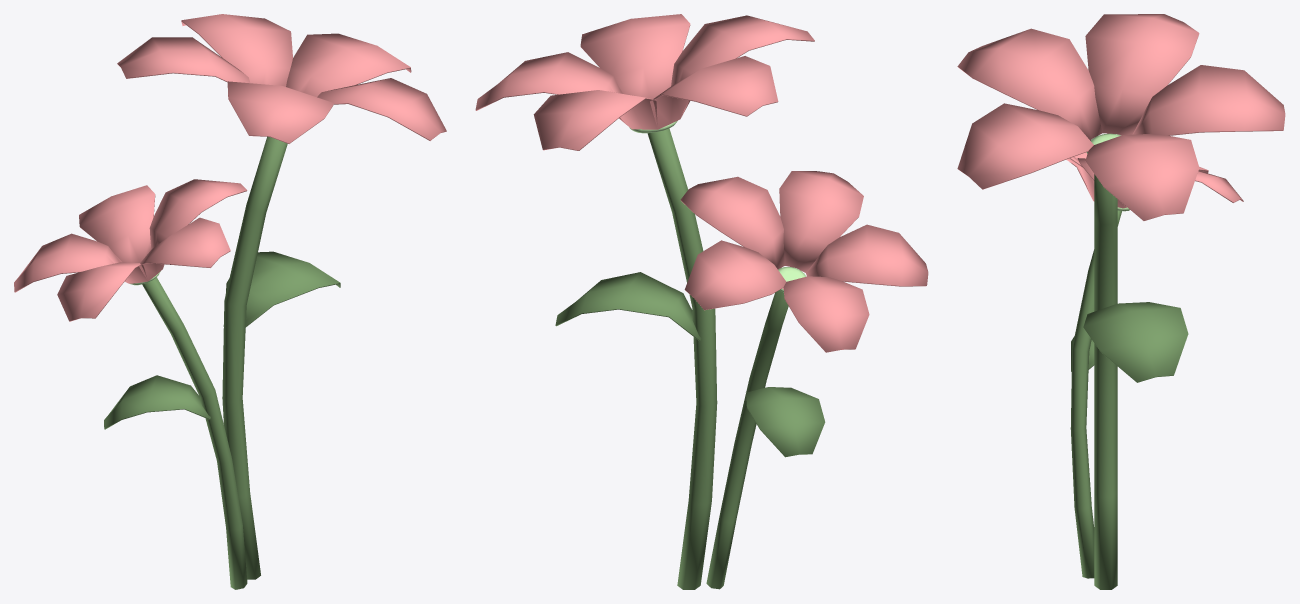
The model's file is big_fragaria_flower2.fbx.
The picture shows the model from 3 angles, left to right: view 1: azimuth 30°, elevation 25°; view 2: azimuth 150°, elevation 25°; view 3: azimuth 270°, elevation 25°; orthographic projection. The views are drawn at different scales.
Visible parts, largest first — view 1: Big fragaria flower 2; view 2: Big fragaria flower 2; view 3: Big fragaria flower 2.
Part boxes in pixels (x1,y1,x2,y2): Big fragaria flower 2: (14,14,446,589); Big fragaria flower 2: (475,14,928,589); Big fragaria flower 2: (957,14,1285,589).
Size of the model in its own units: 386 by 503 by 279.
